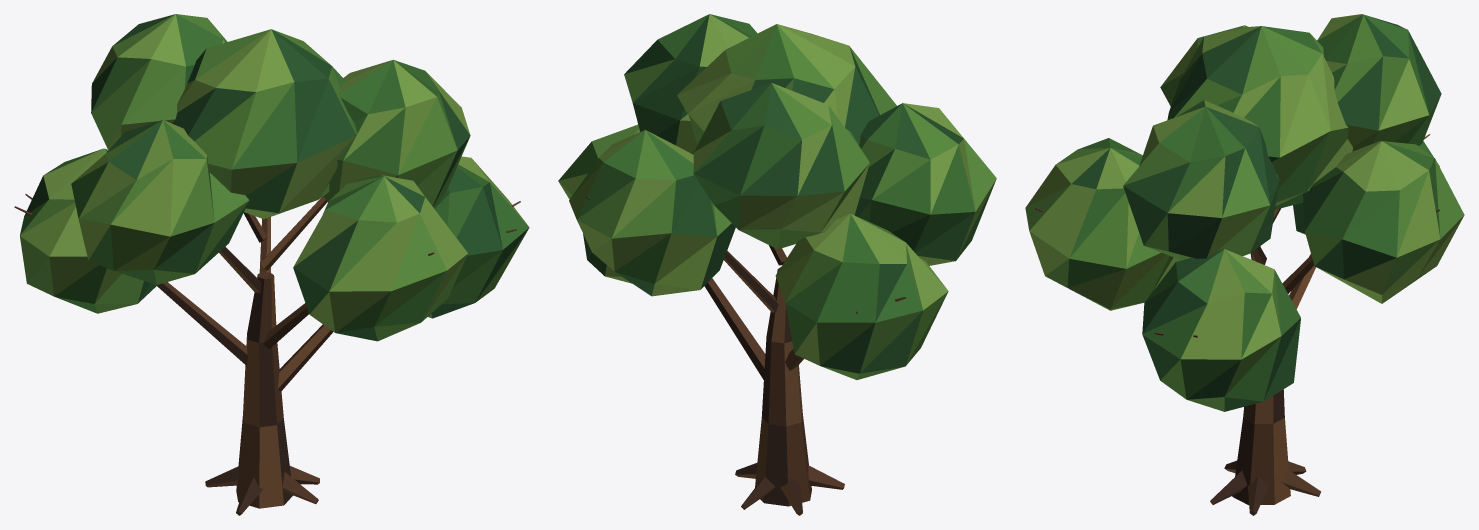
File: tree_rowan_green.obj
3 renders of one model, left to right at view 1: azimuth 30°, elevation 25°; view 2: azimuth 150°, elevation 25°; view 3: azimuth 270°, elevation 25°, orthographic.
Parts seen in each view (by area): view 1: tree_rowan_green; view 2: tree_rowan_green; view 3: tree_rowan_green.
Part boxes in pixels (x1=…): tree_rowan_green: x1=14, y1=14, x2=529, y2=515; tree_rowan_green: x1=558, y1=14, x2=996, y2=515; tree_rowan_green: x1=1025, y1=14, x2=1464, y2=515.
Bounding box in the file's own units: 282 × 295 × 249.
Materials: 1 (1 with a texture image).
